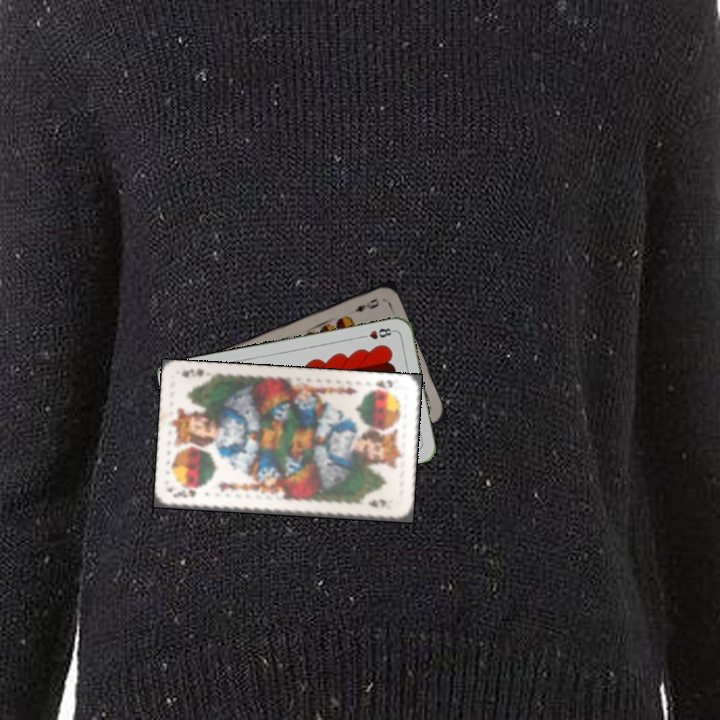E9: (351, 294, 382, 315)
H8: (357, 324, 397, 342)
SK: (365, 376, 395, 396), (169, 485, 198, 501)
